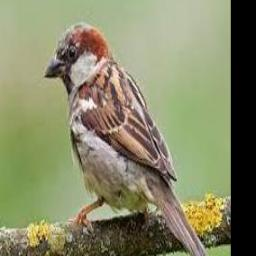Sparrow: (43, 22, 210, 256)
